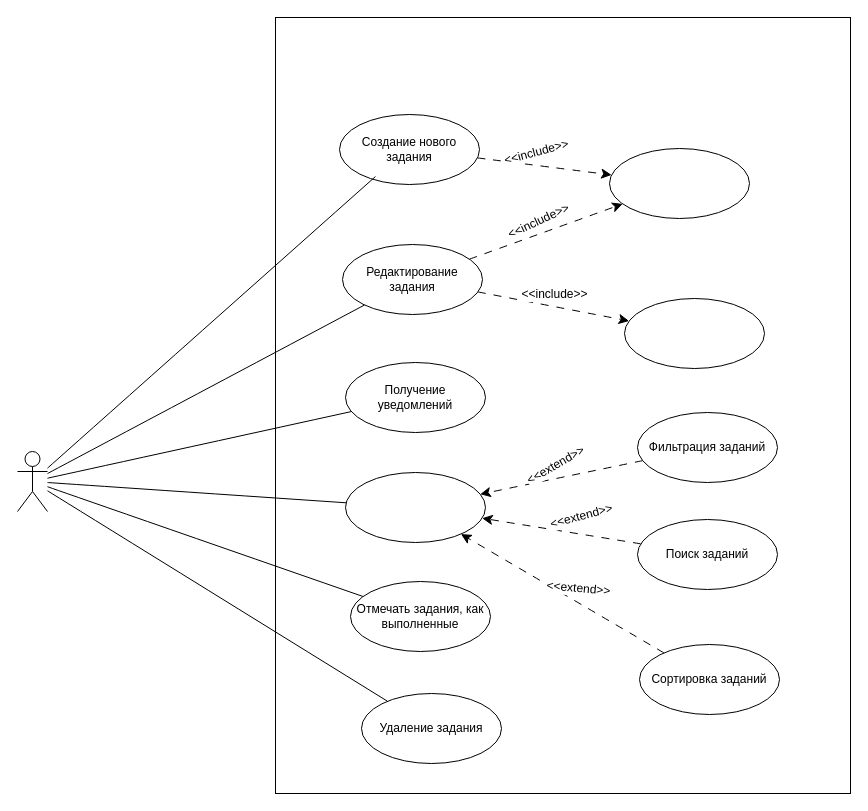
Some shapes in this 868 by 811 pixel diagram are drawn without their labels. Here are the shapes that lost their labels. From the top down, the centre of each, then its label:
(679,183): Валидация данных
(694,333): Автосохранение
(32,481): Actor
(415,507): Просмотр заданий
